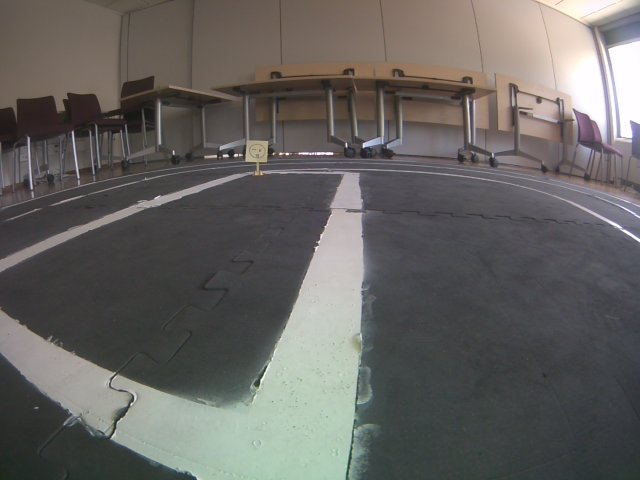Smiley: (244, 138, 269, 164)
